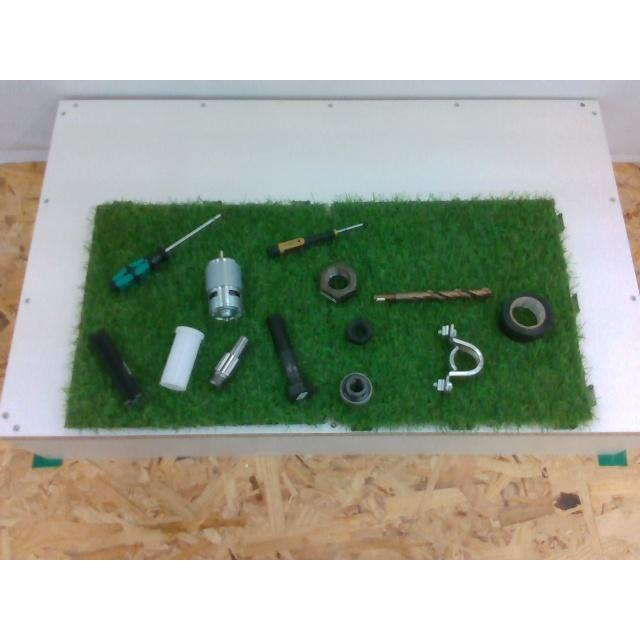Axis2: (210, 335, 247, 385)
Drill: (374, 288, 491, 300)
F20_20_B: (90, 328, 142, 406)
Housing: (435, 324, 483, 392)
M20: (344, 321, 372, 344)
M20_100: (267, 314, 313, 402)
M30: (319, 265, 355, 301), (339, 372, 373, 404)
Motor2: (205, 252, 242, 321)
Screwdriver: (111, 213, 221, 289)
Spacer: (159, 326, 203, 390)
